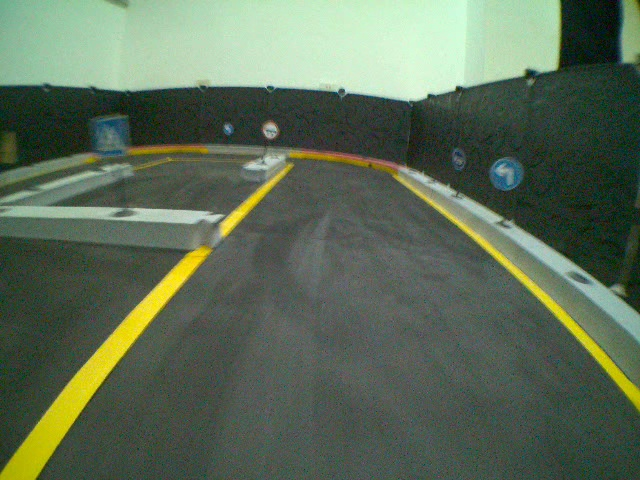Check: (261, 121, 278, 139)
horn: (451, 147, 468, 171)
turn: (490, 156, 525, 191)
